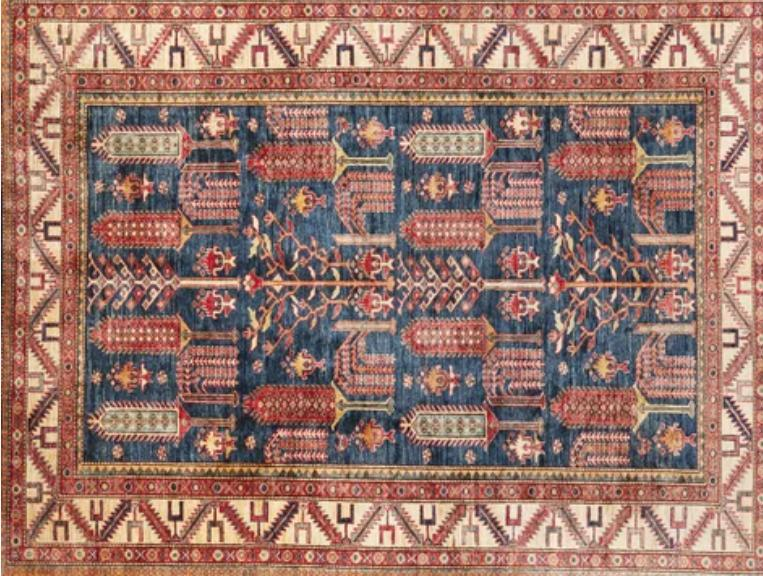carpet: (3, 1, 763, 572)
